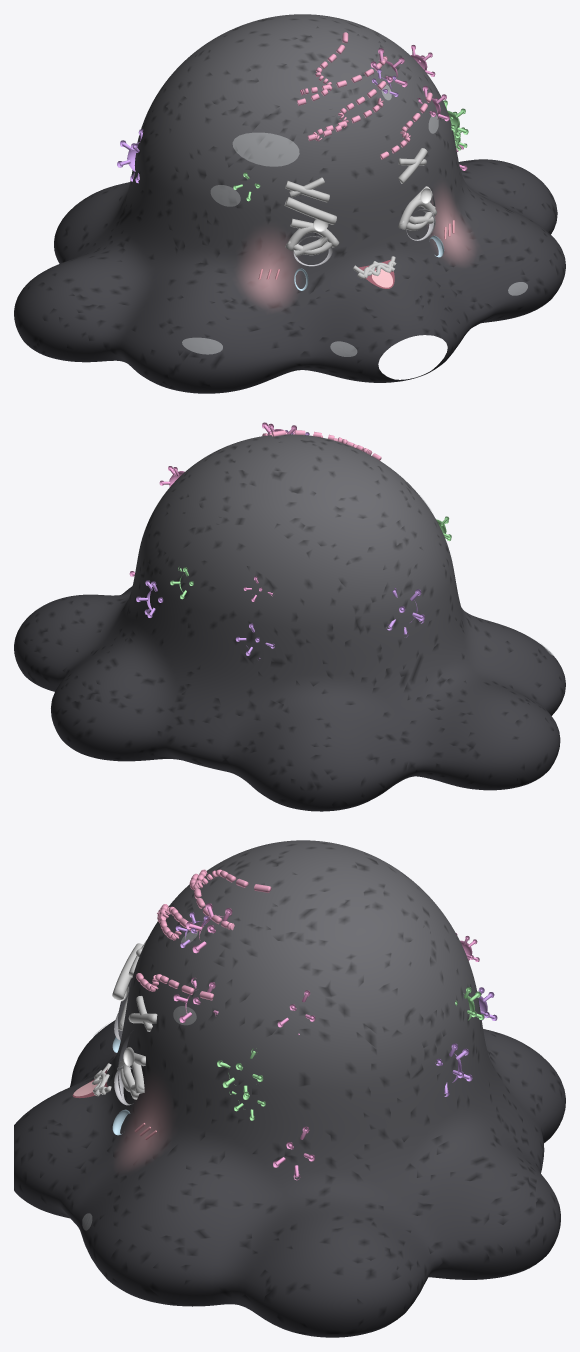
The model's file is v_black_slime.glb.
The picture shows the model from 3 angles, top to bottom: view 1: azimuth 30°, elevation 25°; view 2: azimuth 150°, elevation 25°; view 3: azimuth 270°, elevation 25°; orthographic projection. The views are drawn at different scales.
Visible parts, largest first — view 1: BodyMesh, face_eyes_happy, face_eyes_normal, face_brows_angry, face_eyes_strain, face_brow_smug; view 2: BodyMesh; view 3: BodyMesh, face_eyes_normal.
Part boxes in pixels (<box>): BodyMesh: <box>14,14,565,393</box>; face_eyes_happy: <box>285,199,436,250</box>; face_eyes_normal: <box>293,186,435,266</box>; face_brows_angry: <box>285,148,427,202</box>; face_eyes_strain: <box>290,186,433,256</box>; face_brow_smug: <box>284,197,336,224</box>; BodyMesh: <box>14,422,565,811</box>; BodyMesh: <box>14,840,565,1337</box>; face_eyes_normal: <box>114,978,134,1105</box>.
Size of the model in its own units: 2.93 by 1.44 by 2.17.
